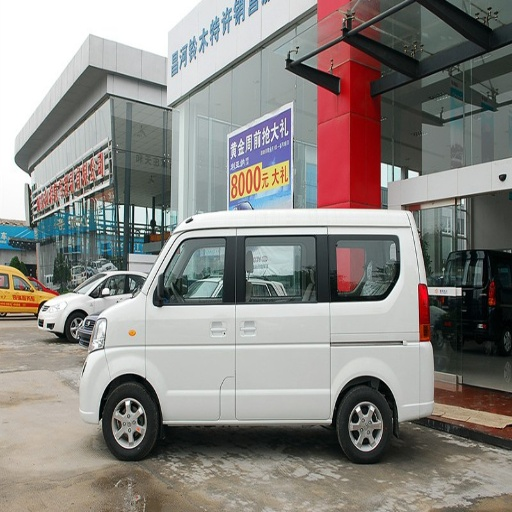back_left_door: (237, 231, 326, 410)
trunk: (269, 312, 431, 418)
